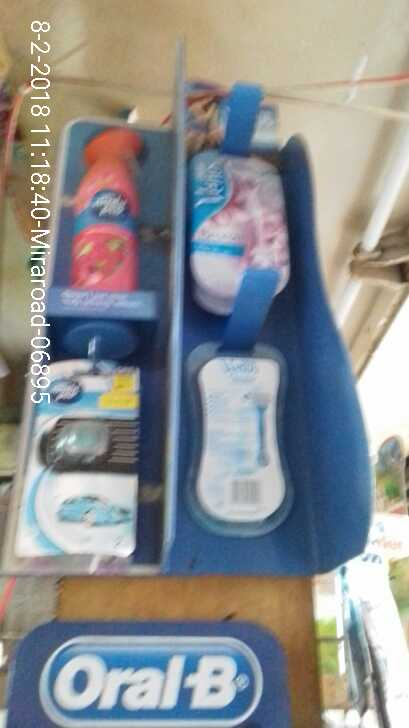beauty: (186, 145, 297, 297)
home: (29, 369, 138, 556), (54, 128, 151, 291)
